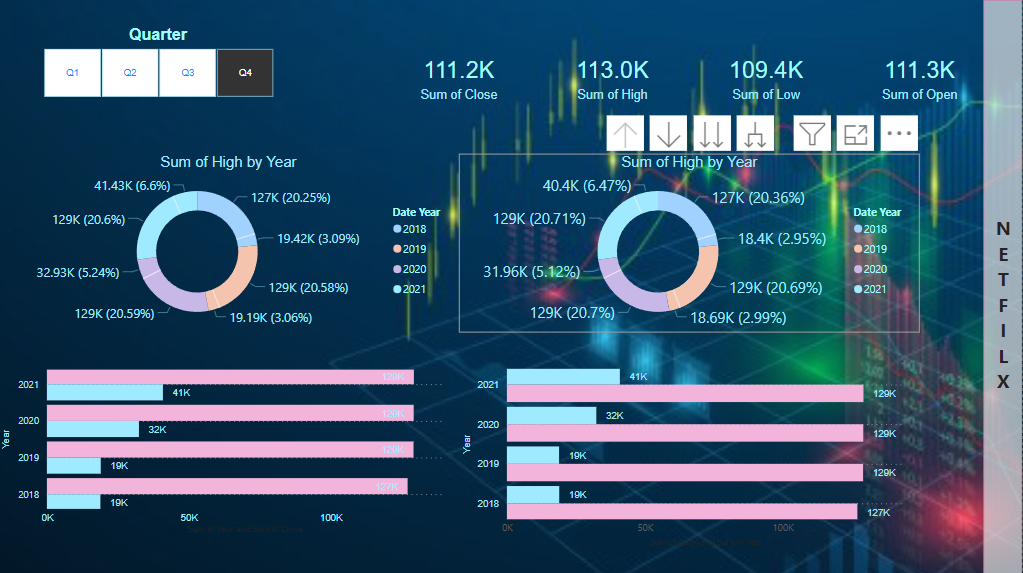

This screenshot's page, from the dashboard's own definition file:
{"tool":"powerbi","page":{"name":"Page 1","canvas":[1280,720],"ordinal":0},"visuals":[{"type":"slicer","title":"Quarter","fields":{"Values":["NFLX.Quarter"]},"box":[32,32,336,96],"z":0},{"type":"card","fields":{"Values":["Sum(NFLX.Open)"]},"box":[1056,0,192,192],"z":1000},{"type":"card","fields":{"Values":["Sum(NFLX.Close)"]},"box":[480,0,192,192],"z":2000},{"type":"card","fields":{"Values":["Sum(NFLX.Low)"]},"box":[864,0,192,192],"z":3000},{"type":"card","fields":{"Values":["Sum(NFLX.High)"]},"box":[672,0,192,192],"z":4000},{"type":"donutChart","title":"Sum of High by Year","fields":{"Y":["Sum(NFLX.Year)","Sum(NFLX.High)"],"Category":["NFLX.Date.Variation.Date Hierarchy.Year","NFLX.Date.Variation.Date Hierarchy.Quarter","NFLX.Date.Variation.Date Hierarchy.Month","NFLX.Date.Variation.Date Hierarchy.Day"]},"box":[0,192,576,224],"z":5000},{"type":"donutChart","title":"Sum of High by Year","fields":{"Y":["Sum(NFLX.Year)","Sum(NFLX.Low)"],"Category":["NFLX.Date.Variation.Date Hierarchy.Year","NFLX.Date.Variation.Date Hierarchy.Quarter","NFLX.Date.Variation.Date Hierarchy.Month","NFLX.Date.Variation.Date Hierarchy.Day"]},"box":[576,192,576,224],"z":6000},{"type":"clusteredBarChart","title":"Sum of Open by Year","fields":{"Y":["Sum(NFLX.Open)","Sum(NFLX.Year)"],"Category":["NFLX.Date.Variation.Date Hierarchy.Year","NFLX.Date.Variation.Date Hierarchy.Quarter","NFLX.Date.Variation.Date Hierarchy.Month","NFLX.Date.Variation.Date Hierarchy.Day"]},"box":[576,448,576,240],"z":7000},{"type":"clusteredBarChart","title":"Sum of Open by Year","fields":{"Y":["Sum(NFLX.Year)","Sum(NFLX.Close)"],"Category":["NFLX.Date.Variation.Date Hierarchy.Year","NFLX.Date.Variation.Date Hierarchy.Quarter","NFLX.Date.Variation.Date Hierarchy.Month","NFLX.Date.Variation.Date Hierarchy.Day"]},"box":[0,448,576,224],"z":8000},{"type":"textbox","box":[1232,0,48,720],"z":9000}]}

Visuals, with their boxes in screenshot pixels (x1, y1, x2, y2), scaled from the page's 1280x720 canvas onto the 1023x573 screenshot:
"Quarter" slicer: l=26, t=25, r=294, b=102
card - Sum(NFLX.Open): l=844, t=0, r=997, b=153
card - Sum(NFLX.Close): l=384, t=0, r=537, b=153
card - Sum(NFLX.Low): l=691, t=0, r=844, b=153
card - Sum(NFLX.High): l=537, t=0, r=691, b=153
"Sum of High by Year" donutChart: l=0, t=153, r=460, b=331
"Sum of High by Year" donutChart: l=460, t=153, r=921, b=331
"Sum of Open by Year" clusteredBarChart: l=460, t=357, r=921, b=548
"Sum of Open by Year" clusteredBarChart: l=0, t=357, r=460, b=535
textbox: l=985, t=0, r=1022, b=572
